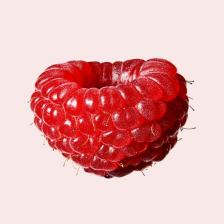red: (36, 62, 188, 182)
